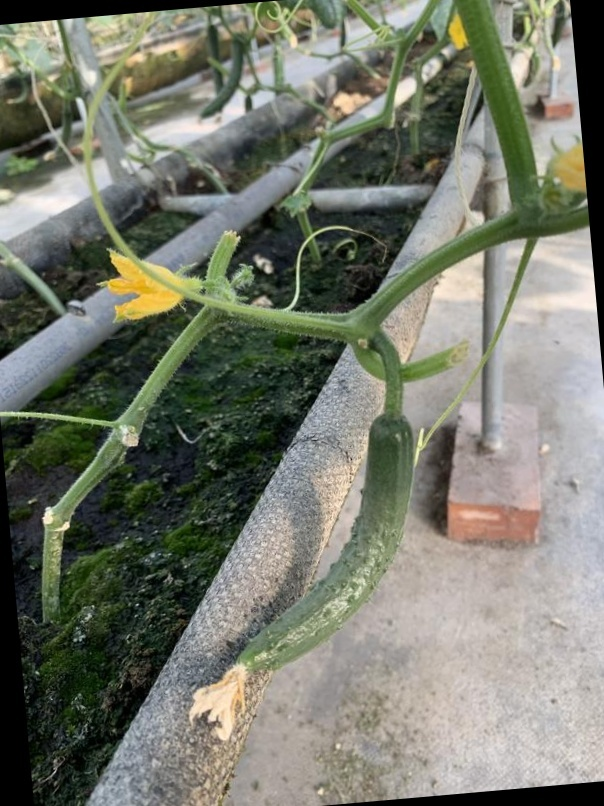bud: (98, 244, 194, 319)
growth: (189, 412, 417, 721)
